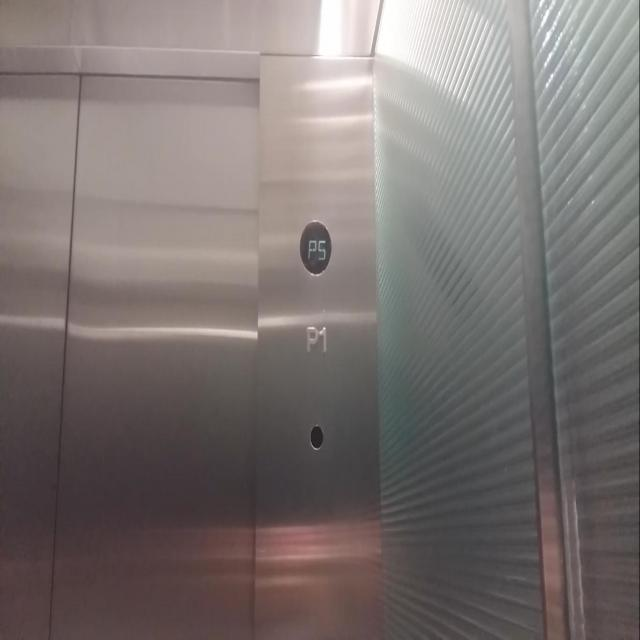P1: (300, 318, 331, 365)
P5: (298, 220, 332, 276)
